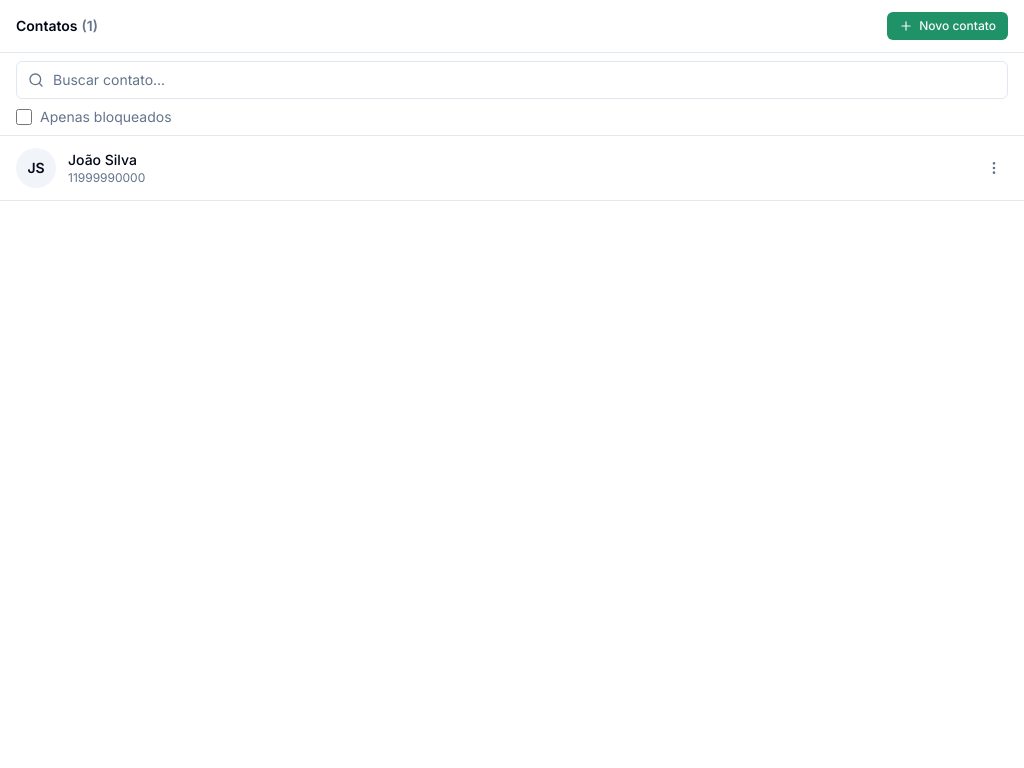
ContactList › fecha o menu ao clicar no backdrop do menu
Click the button with test id "contact-actions-btn" at (994, 168), box top-left (980, 154), bottom-right (1008, 182)
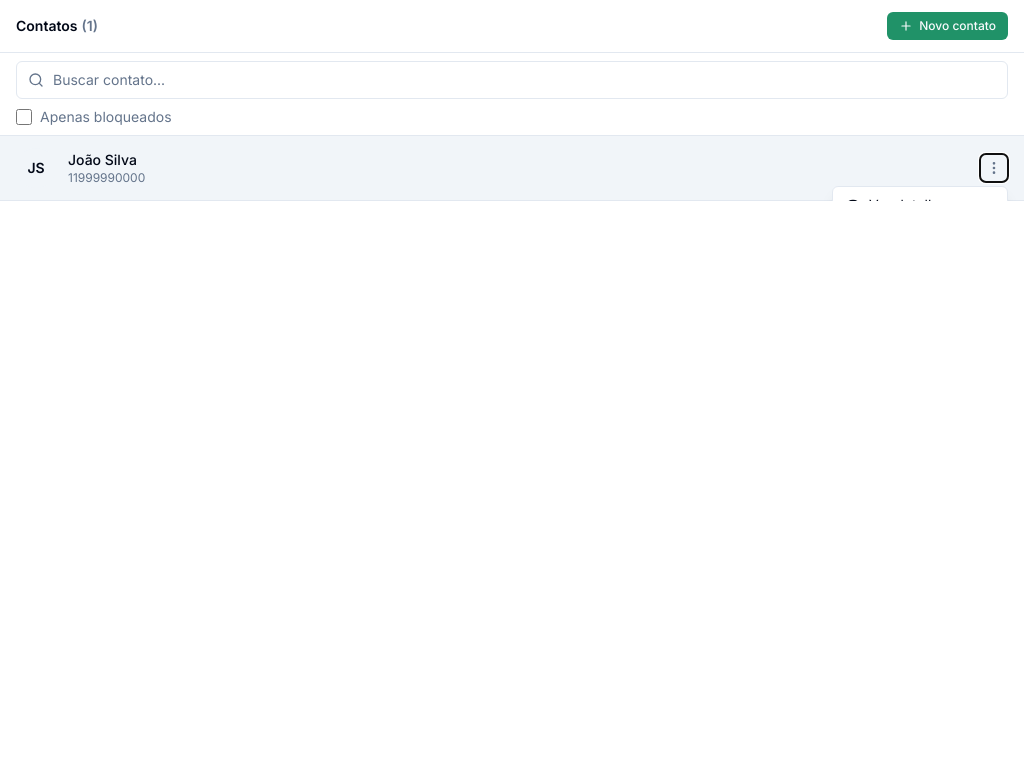
// Click the invisible backdrop div
Click the element with class "z-10" at (512, 384), box top-left (0, 0), bottom-right (1023, 767)
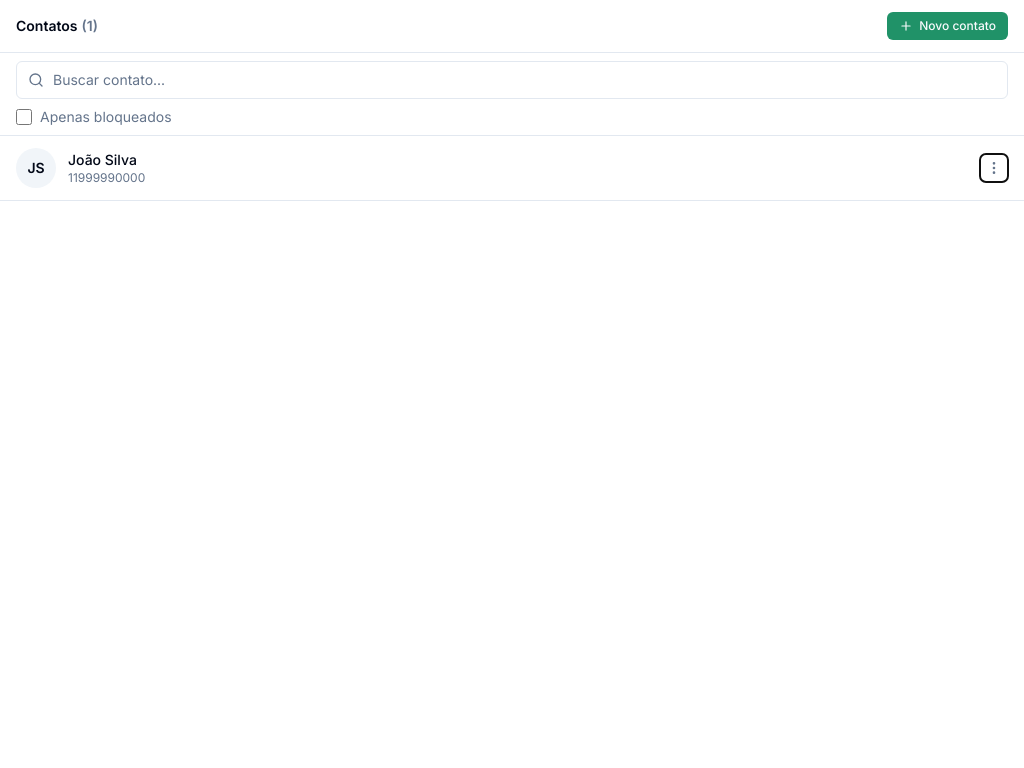
Expected: the element with test id "contact-actions-menu" is gone
